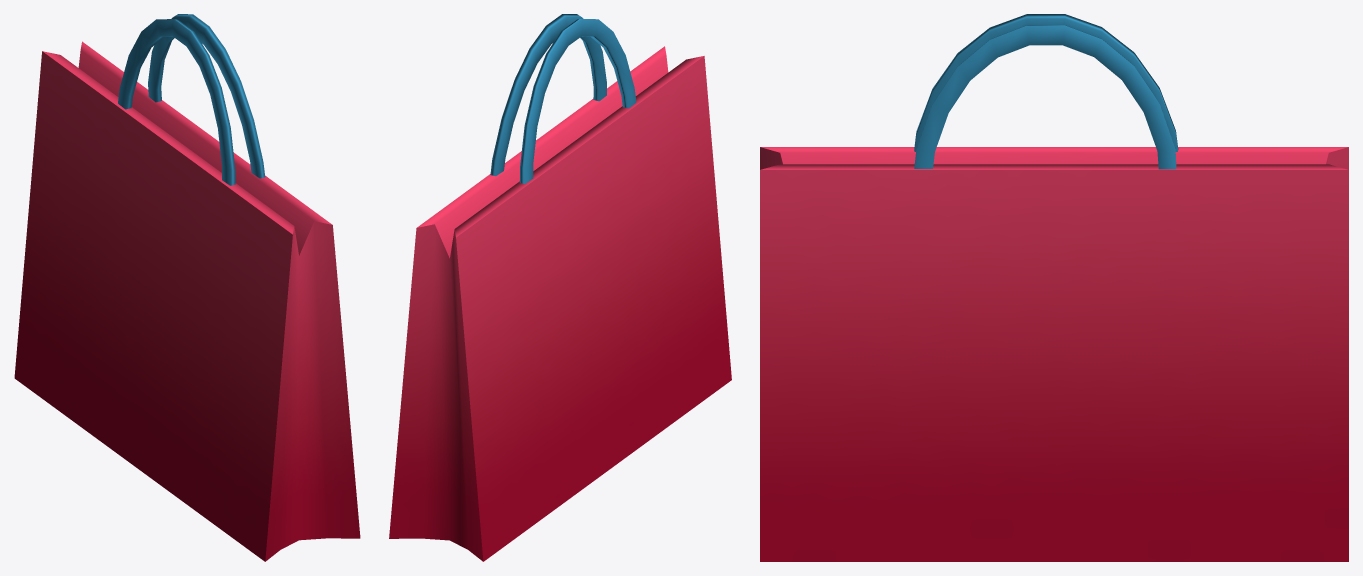
File: PRP_Bag_1.fbx
3 views of the same model, side by side, from view 1: azimuth 30°, elevation 25°; view 2: azimuth 150°, elevation 25°; view 3: azimuth 270°, elevation 25° (orthographic). The views are drawn at different scales.
Visible parts, largest first — view 1: PRP_Bag_1; view 2: PRP_Bag_1; view 3: PRP_Bag_1.
Boxes of the visible parts, x1,y1,x2,y2 form: PRP_Bag_1: [14, 14, 360, 561]; PRP_Bag_1: [389, 14, 731, 561]; PRP_Bag_1: [760, 14, 1348, 561].
Size of the model in its own units: 15.58 by 68.56 by 71.05.
